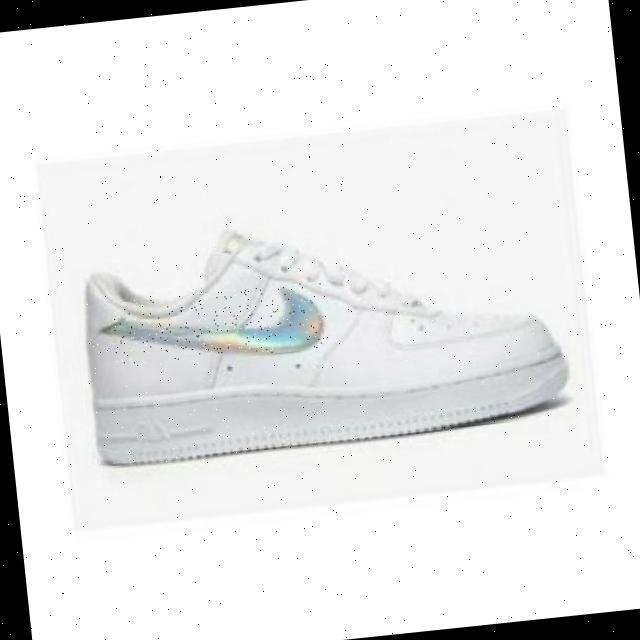Nike: (108, 281, 327, 369)
